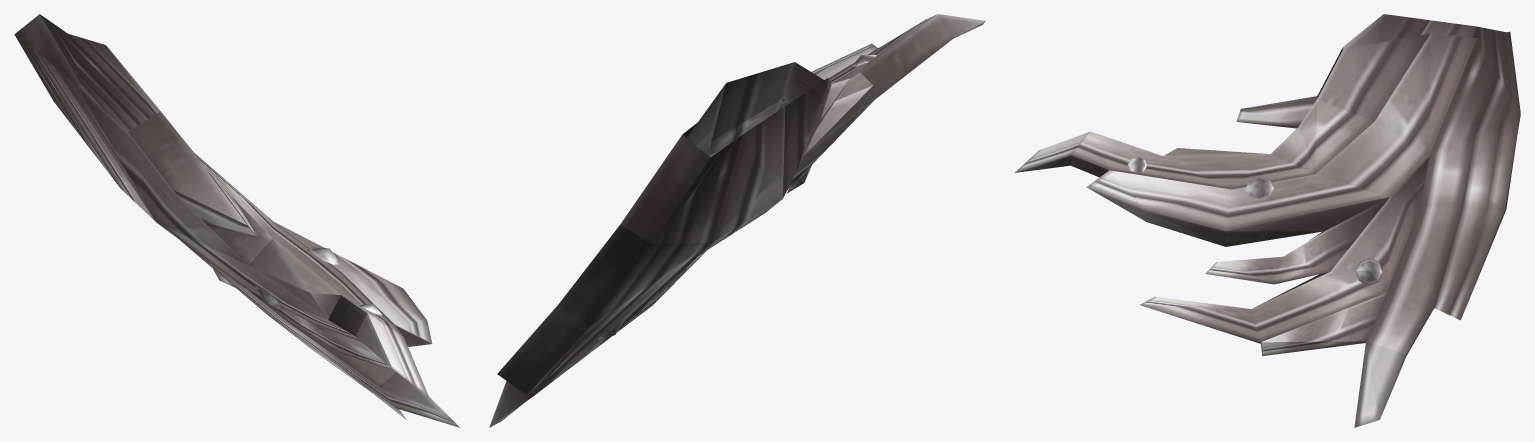
3 renders of one model, left to right at view 1: azimuth 30°, elevation 25°; view 2: azimuth 150°, elevation 25°; view 3: azimuth 270°, elevation 25°, orthographic. The views are drawn at different scales.
Visible parts, largest first — view 1: B_0142_2a_0; view 2: B_0142_2a_0; view 3: B_0142_2a_0.
Boxes of the visible parts, bbox=[...] form: B_0142_2a_0: bbox=[14, 14, 459, 427]; B_0142_2a_0: bbox=[489, 14, 985, 427]; B_0142_2a_0: bbox=[1014, 14, 1520, 427].
Size of the model in its own units: 4.08 by 5.02 by 7.63.
1 material, 1 textured.
